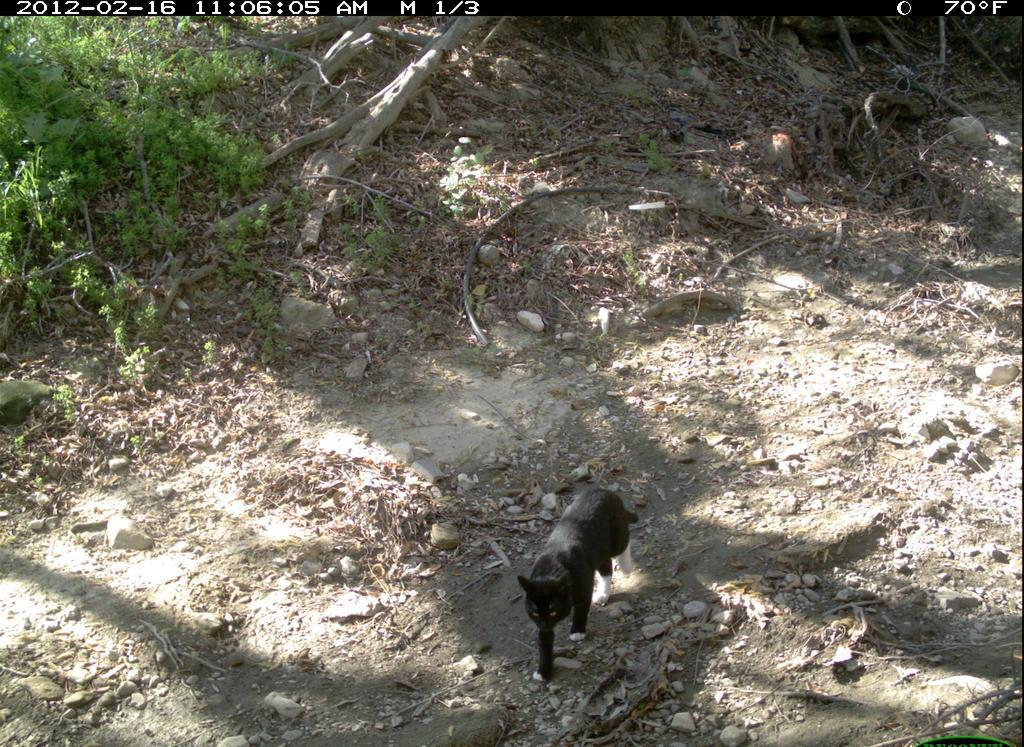cat: (502, 475, 652, 698)
